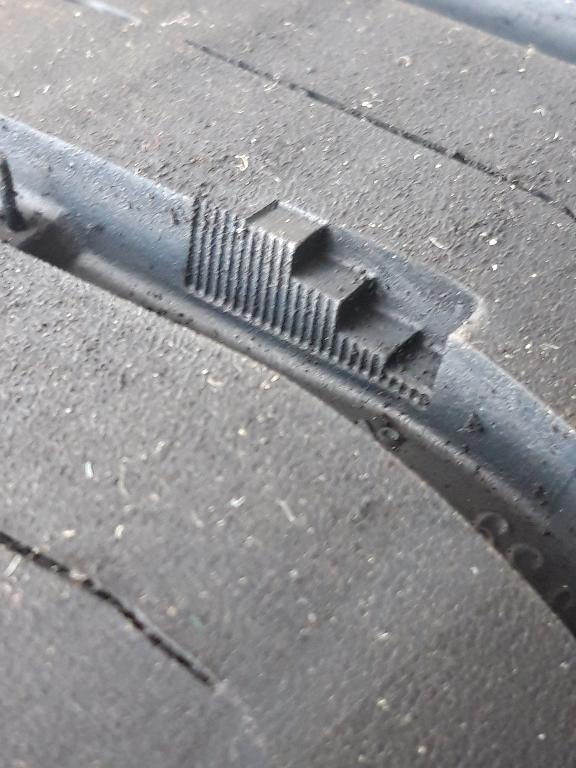temoin:75: (236, 196, 488, 421)
